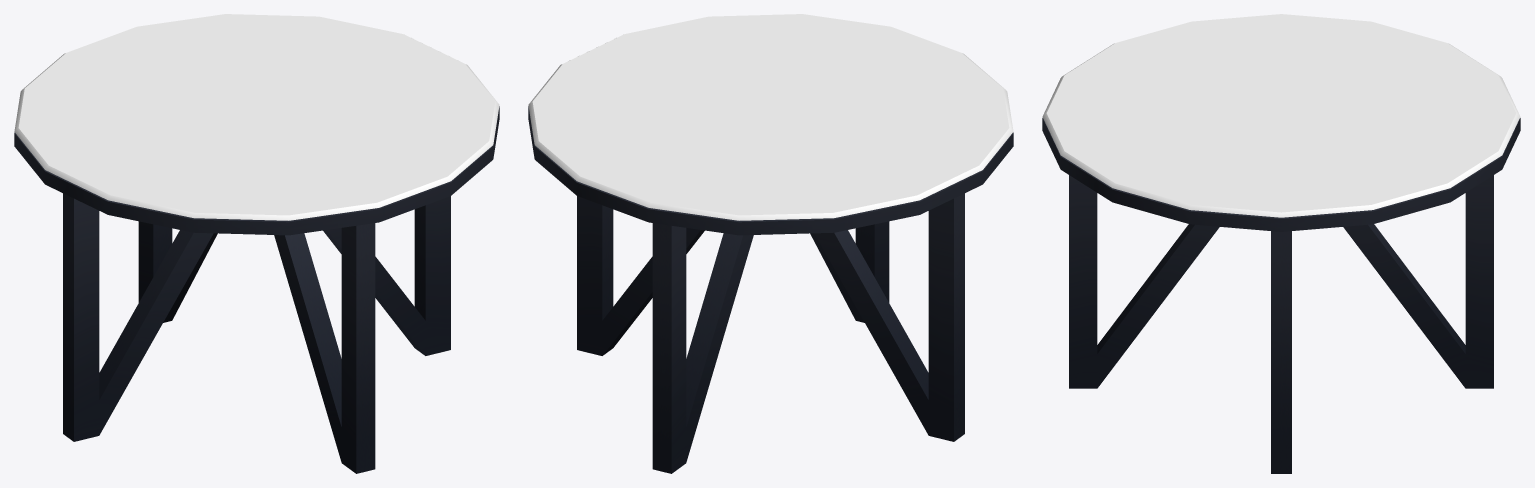
The model's file is TableRoundTall 1.FBX.
3 views of the same model, side by side, from view 1: azimuth 30°, elevation 25°; view 2: azimuth 150°, elevation 25°; view 3: azimuth 270°, elevation 25° (orthographic). The views are drawn at different scales.
Parts seen in each view (by area): view 1: TableRoundTall; view 2: TableRoundTall; view 3: TableRoundTall.
Part boxes in pixels (x1=…): TableRoundTall: x1=14, y1=14, x2=499, y2=473; TableRoundTall: x1=528, y1=14, x2=1013, y2=473; TableRoundTall: x1=1042, y1=14, x2=1520, y2=473.
Bounding box in the file's own units: 47.52 × 29.72 × 47.52.
